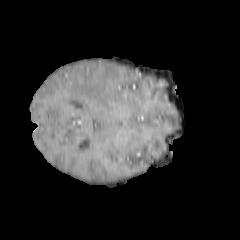glioma: (66, 69, 131, 109)
